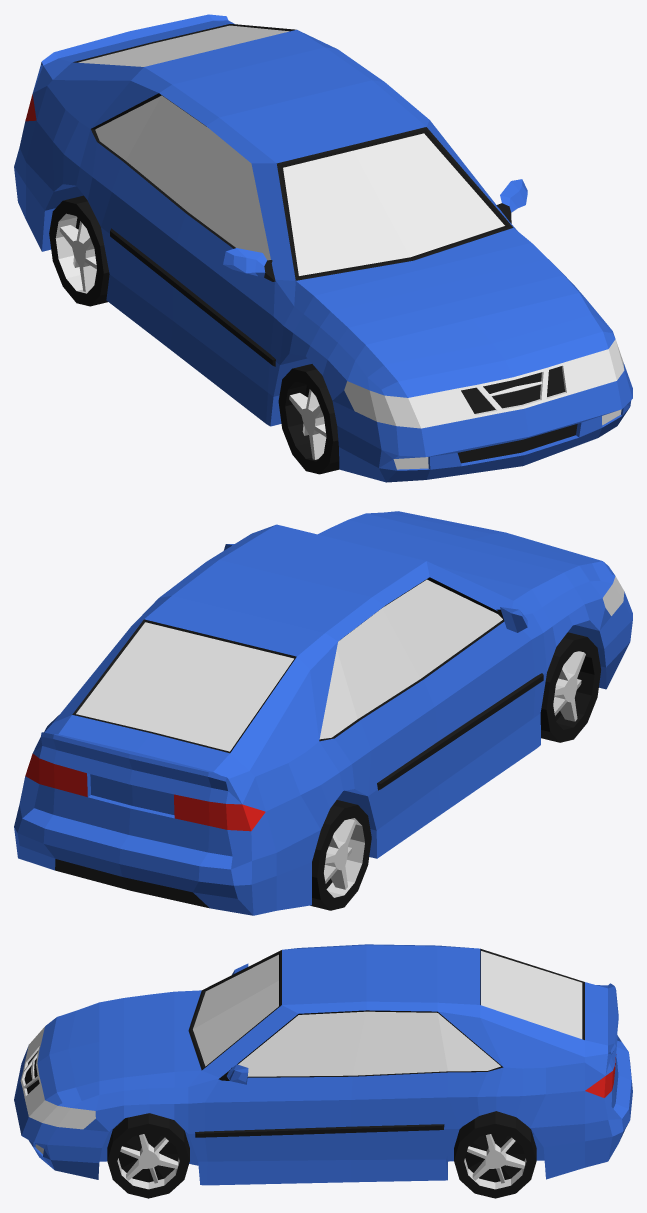
3 renders of one model, top to bottom at view 1: azimuth 30°, elevation 25°; view 2: azimuth 150°, elevation 25°; view 3: azimuth 270°, elevation 25°, orthographic. The views are drawn at different scales.
Parts seen in each view (by area): view 1: Body, Front right, Rear right; view 2: Body, Rear right, Front right; view 3: Body, Rear left, Front left.
Boxes of the visible parts, x1,y1,x2,y2 form: Body: [14, 14, 632, 482]; Front right: [278, 364, 339, 474]; Rear right: [49, 195, 109, 306]; Body: [14, 511, 632, 915]; Rear right: [310, 800, 371, 910]; Front right: [540, 632, 600, 742]; Body: [14, 944, 632, 1185]; Rear left: [454, 1111, 536, 1198]; Front left: [107, 1113, 189, 1198].
Bounding box in the file's own units: 213 × 156 × 497.
